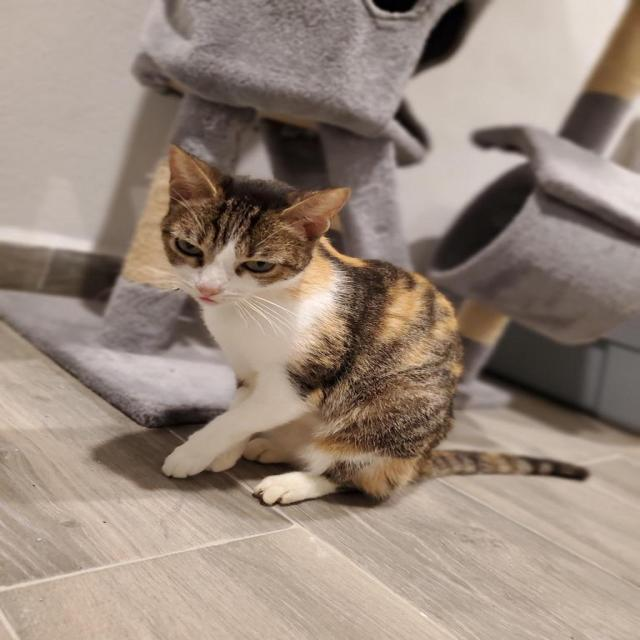calico_cat: (142, 138, 361, 318)
